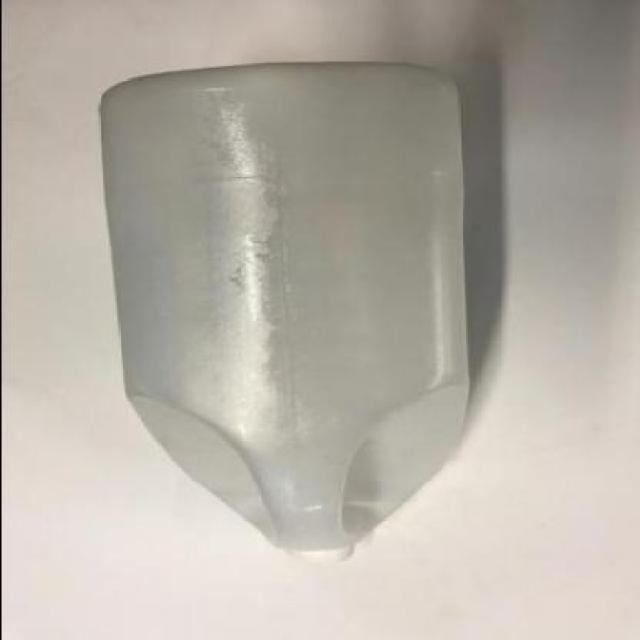PLASTIC: (98, 60, 470, 565), (290, 546, 355, 566)
